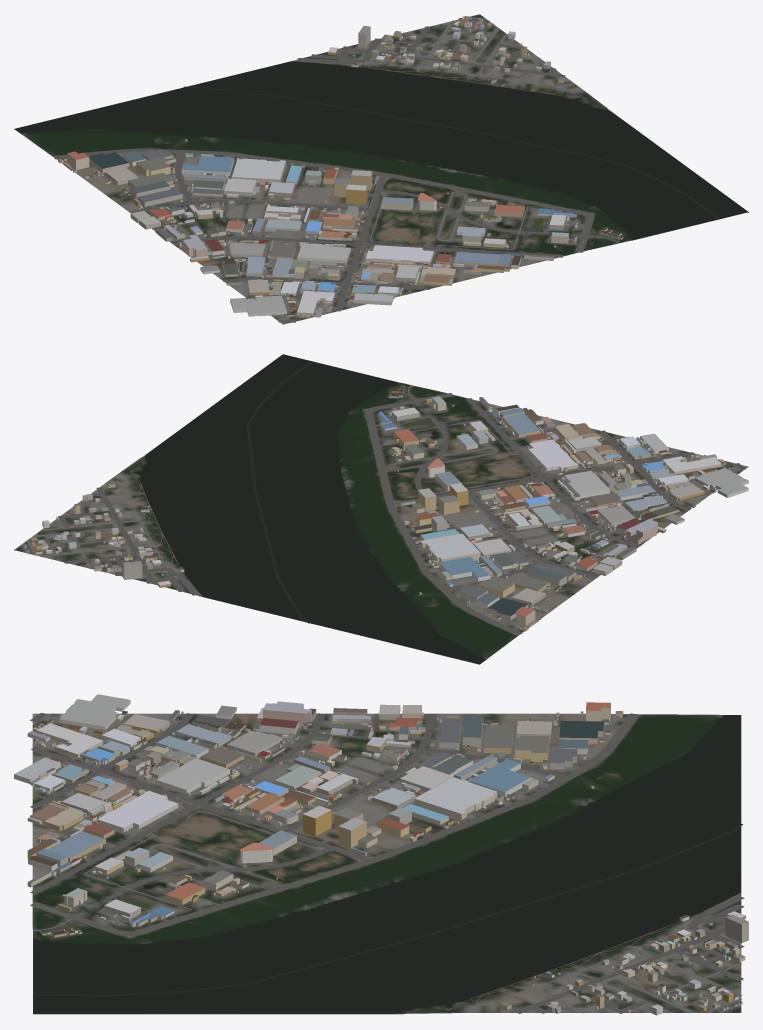
3 views of the same model, one above another, from view 1: azimuth 30°, elevation 25°; view 2: azimuth 150°, elevation 25°; view 3: azimuth 270°, elevation 25° (orthographic). The views are drawn at different scales.
Parts seen in each view (by area): view 1: water, ground, buildings, roads; view 2: water, ground, buildings, roads; view 3: water, ground, buildings, roads.
Boxes of the visible parts, x1,y1,x2,y2 form: water: (15, 61, 747, 240); ground: (14, 14, 748, 324); buildings: (58, 16, 623, 318); roads: (53, 17, 619, 322); water: (133, 354, 485, 663); ground: (14, 355, 748, 664); buildings: (24, 385, 748, 631); roads: (22, 385, 745, 635); water: (33, 715, 742, 1013); ground: (32, 713, 741, 1014); buildings: (14, 694, 748, 1015); roads: (30, 713, 744, 1013).
Bounding box in the file's own units: 1485 × 46.4 × 1453.
